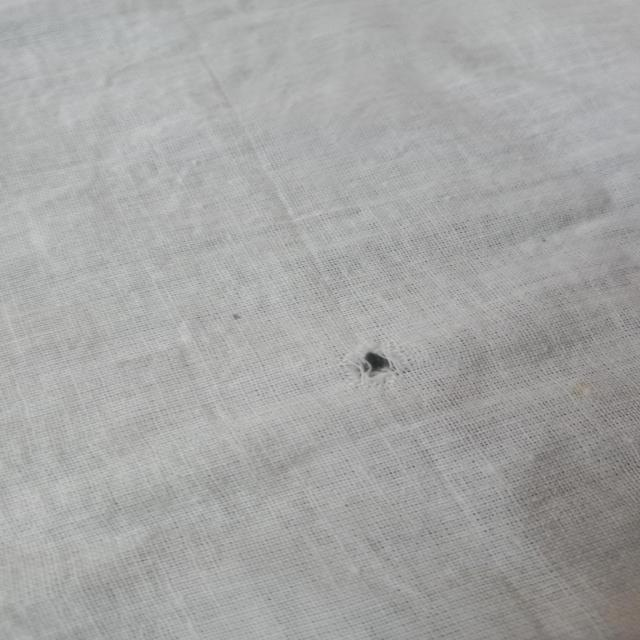cut: (344, 344, 406, 382)
